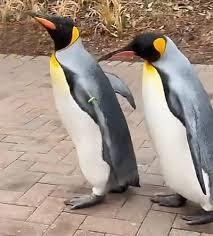king: (18, 2, 148, 213), (95, 18, 213, 235)
